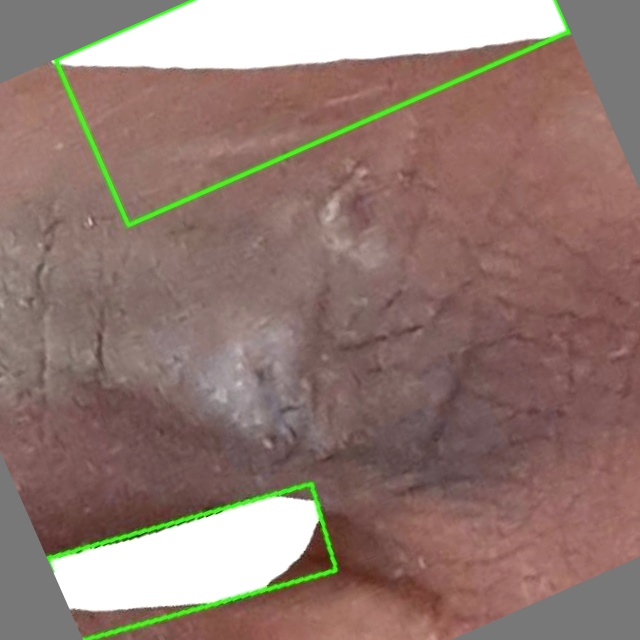Contact Dermatitis: (55, 0, 569, 225), (47, 483, 337, 639)
